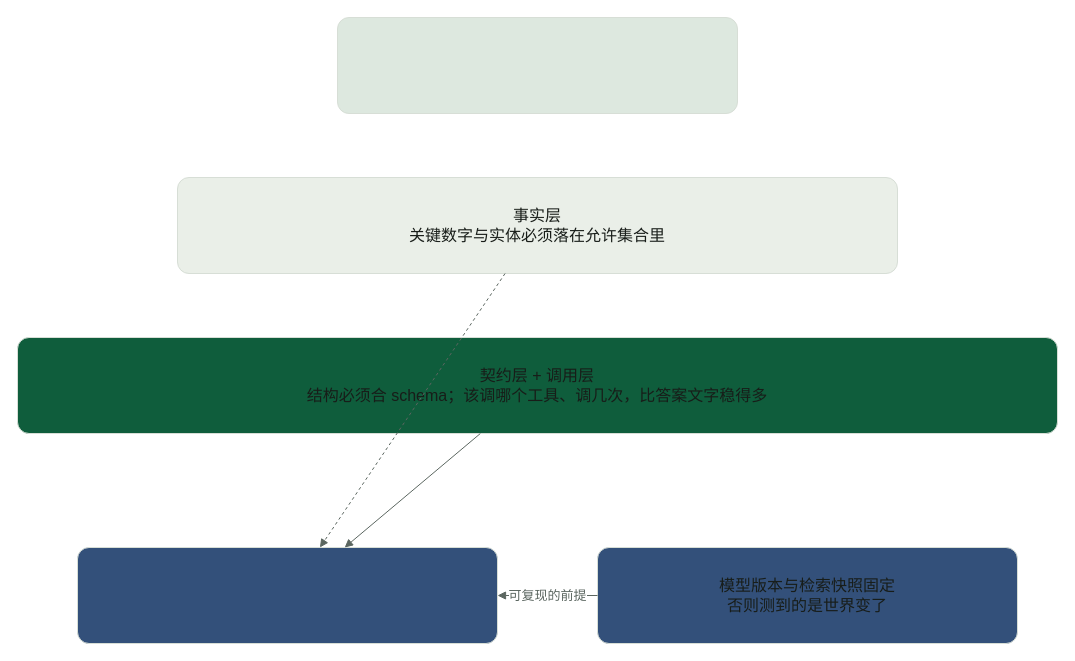
Some shapes in this 1075 by 661 pixel diagram are drawn without their labels. Here are the shapes that lost their labels. From the top down, the centre of each, then its label:
At (537,65): "语义层 评审模型或相似度，只给阈值".
At (287,595): "同一题跑 N 次看通过率 单次通过或失败没有信息量".
